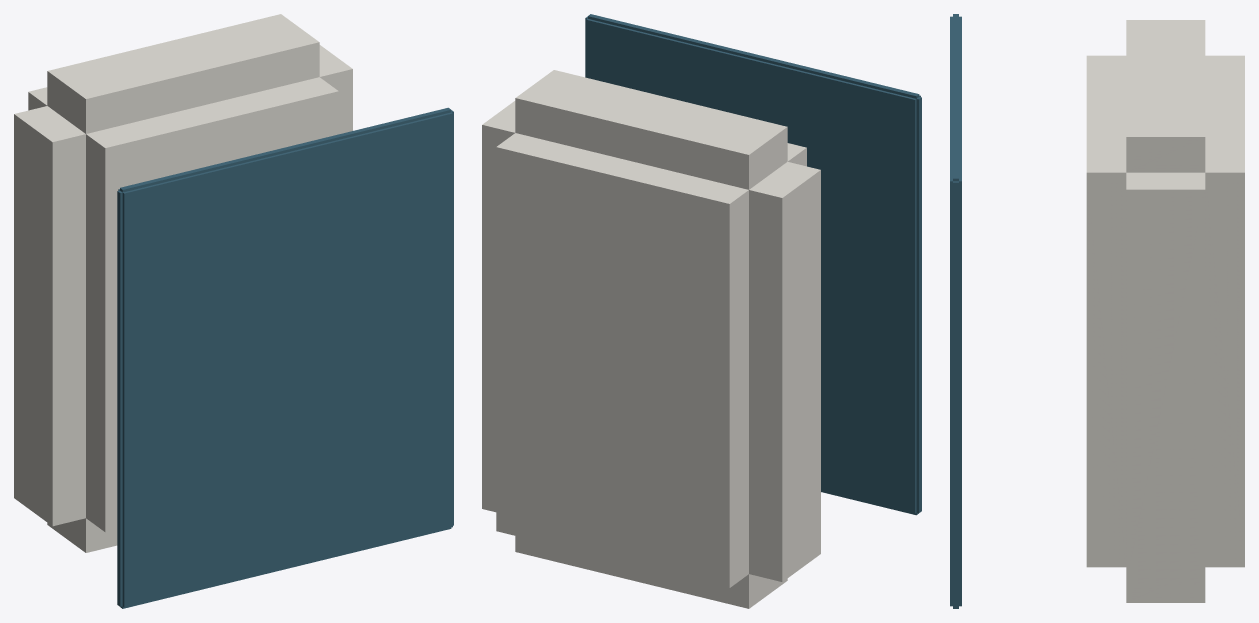
File: sku_medicine.glb
3 views of the same model, side by side, from view 1: azimuth 30°, elevation 25°; view 2: azimuth 150°, elevation 25°; view 3: azimuth 270°, elevation 25° (orthographic). The views are drawn at different scales.
Parts seen in each view (by area): view 1: sku_medicine_Technical_blue, sku_medicine_Warm_white_coating; view 2: sku_medicine_Warm_white_coating, sku_medicine_Technical_blue; view 3: sku_medicine_Warm_white_coating, sku_medicine_Technical_blue.
Boxes of the visible parts, box(x1,y1,x2,y2) form: sku_medicine_Technical_blue: box(117, 107, 453, 608); sku_medicine_Warm_white_coating: box(14, 14, 352, 552); sku_medicine_Warm_white_coating: box(482, 70, 820, 608); sku_medicine_Technical_blue: box(585, 14, 921, 515); sku_medicine_Warm_white_coating: box(1086, 20, 1244, 602); sku_medicine_Technical_blue: box(950, 14, 961, 608).
Bounding box in the file's own units: 0.1 × 0.13 × 0.0745.
